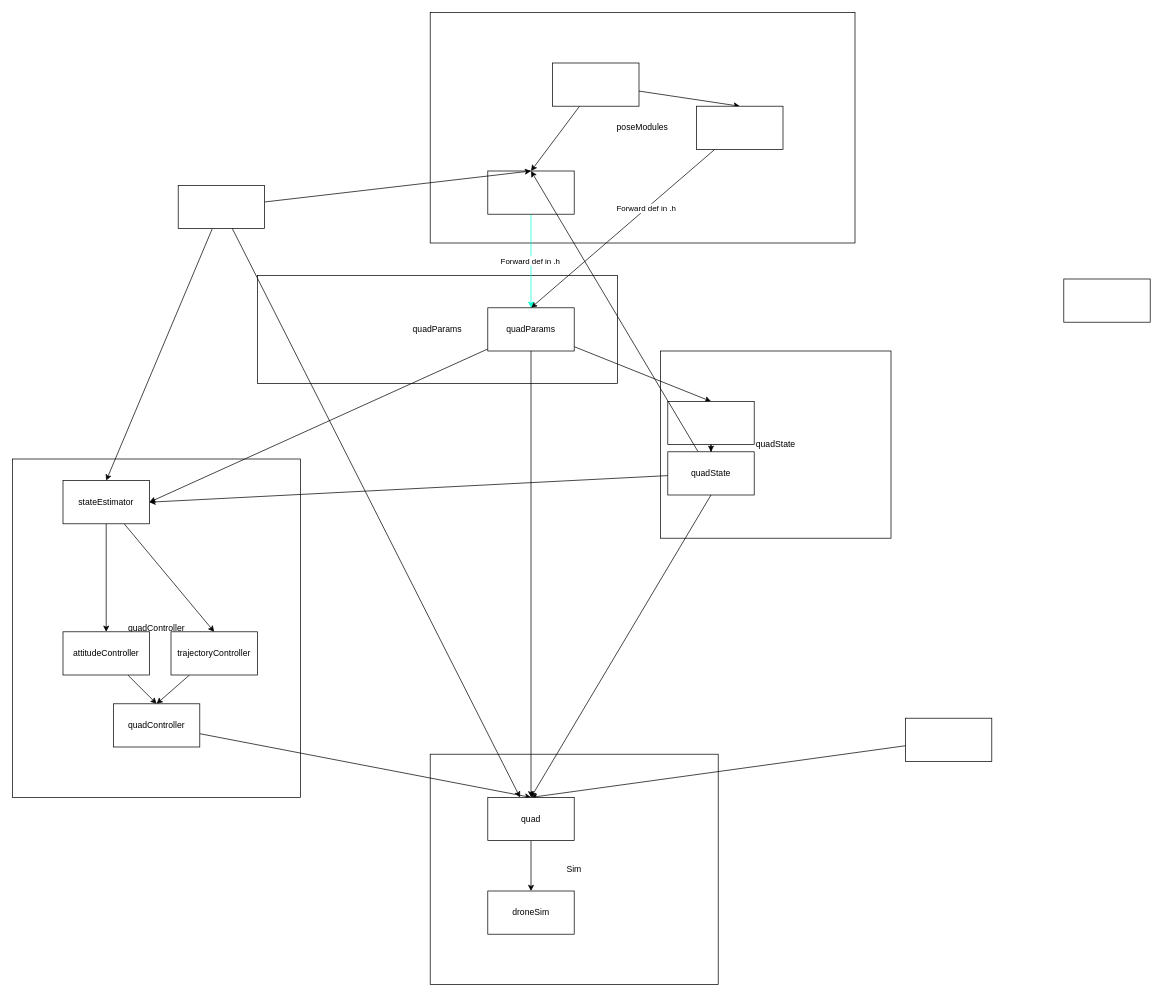
Some shapes in this 1163 by 997 pixel diagram are drawn without their labels. The shapes that lost their labels are listed below. From the top down, each one's centre as x and y in pixels, then its label:
At (x=595, y=84): "poseTemplate".
At (x=739, y=127): "propParams".
At (x=221, y=207): "Enviornment".
At (x=530, y=192): "SensorClass".
At (x=1106, y=300): "BaseDrone Unused".
At (x=710, y=423): "droneState".
At (x=948, y=739): "trajectory".
